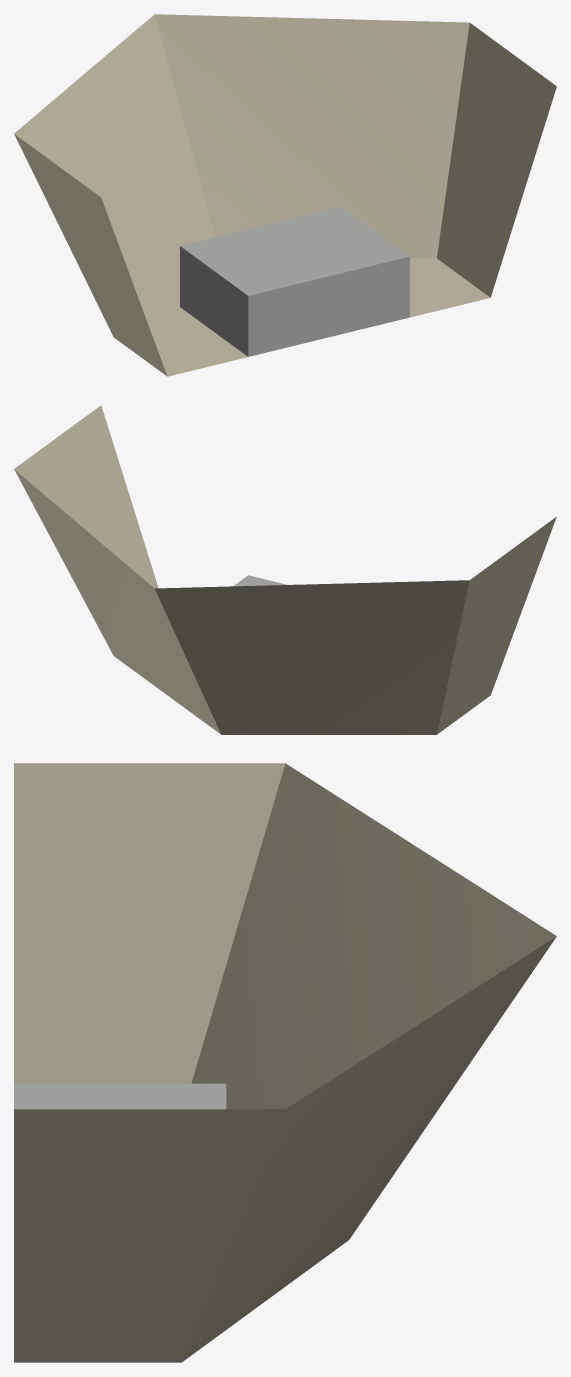
Rendered from lamp_wall.glb.
3 views of the same model, one above another, from view 1: azimuth 30°, elevation 25°; view 2: azimuth 150°, elevation 25°; view 3: azimuth 270°, elevation 25° (orthographic). The views are drawn at different scales.
Parts seen in each view (by area): view 1: lamp_wall; view 2: lamp_wall; view 3: lamp_wall.
Boxes of the visible parts, x1=… form: lamp_wall: x1=14, y1=14, x2=556, y2=376; lamp_wall: x1=14, y1=405, x2=556, y2=734; lamp_wall: x1=14, y1=763, x2=556, y2=1362.
Size of the model in its own units: 0.8548 by 0.35 by 0.567.
